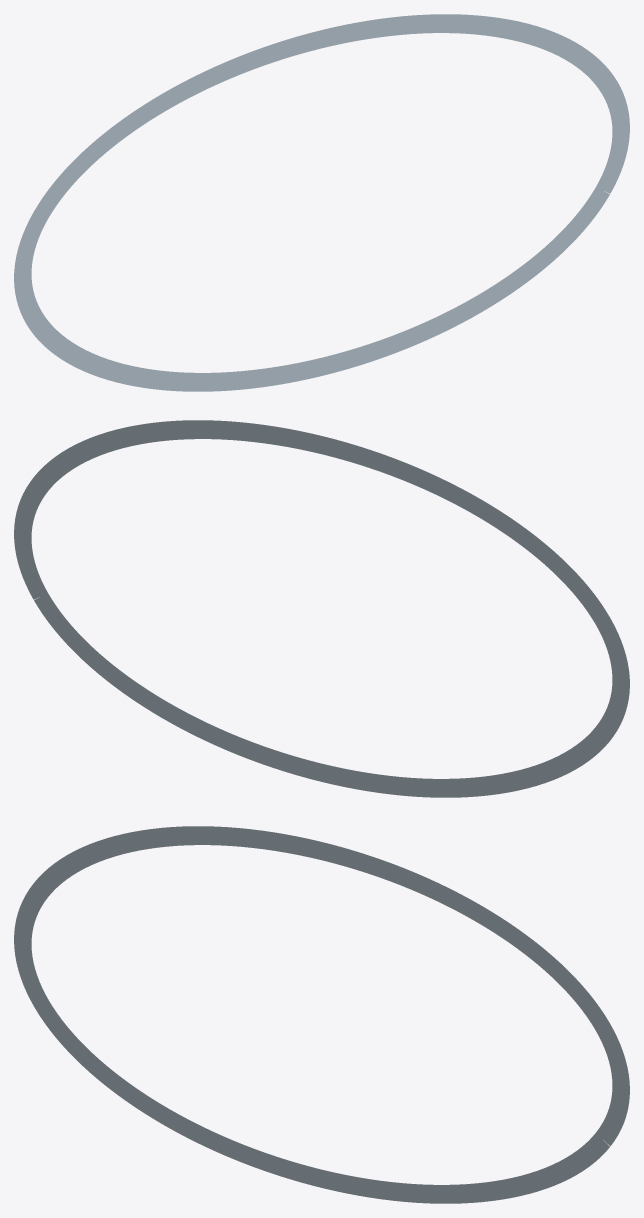
Rendered from Xiangling_PyronadoTrigger_GroupFive_PyronadoActualOrbitTail.fbx.
3 views of the same model, one above another, from view 1: azimuth 30°, elevation 25°; view 2: azimuth 150°, elevation 25°; view 3: azimuth 330°, elevation 25° (orthographic).
Visible parts, largest first — view 1: PART_PyronadoActualRecentOrbitTail; view 2: PART_PyronadoActualRecentOrbitTail; view 3: PART_PyronadoActualRecentOrbitTail.
Part boxes in pixels (x1,y1,x2,y2): PART_PyronadoActualRecentOrbitTail: [14, 14, 629, 391]; PART_PyronadoActualRecentOrbitTail: [14, 420, 629, 797]; PART_PyronadoActualRecentOrbitTail: [14, 826, 629, 1203].
Size of the model in its own units: 842 by 452 by 7.36e-05.
